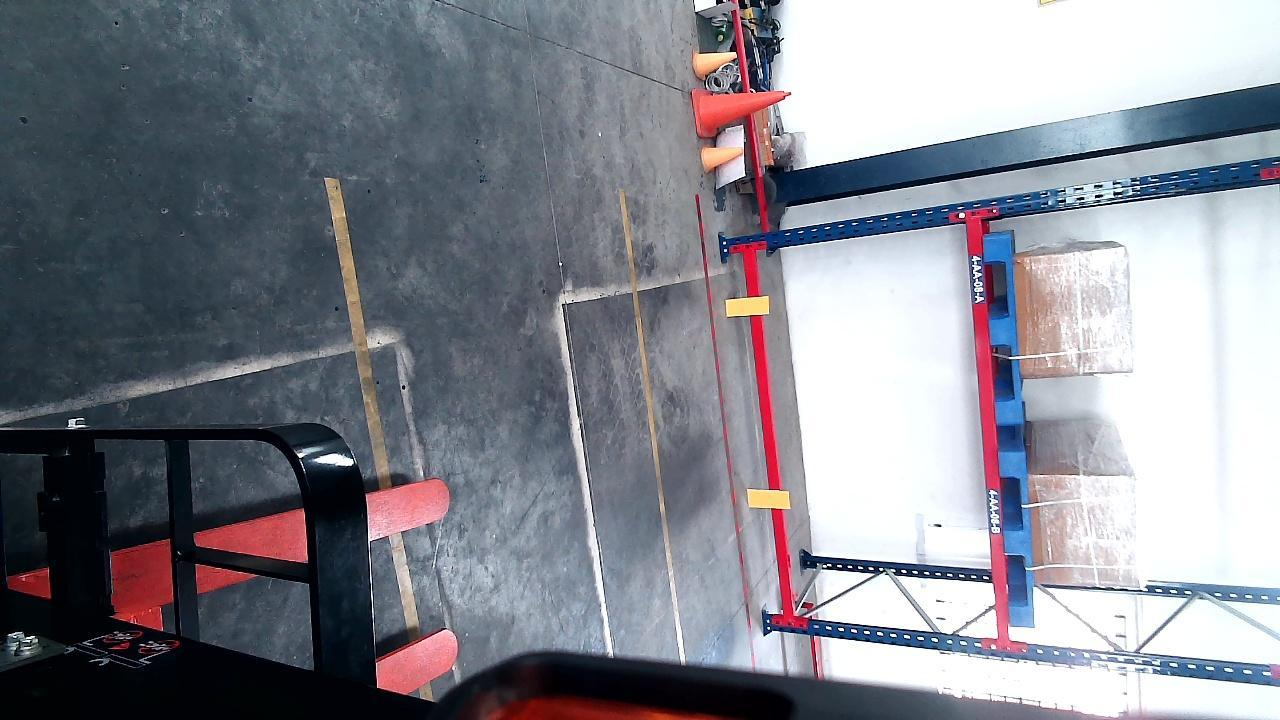red_line: (695, 202, 755, 632)
yellow_line: (322, 176, 434, 698), (619, 188, 683, 653)
